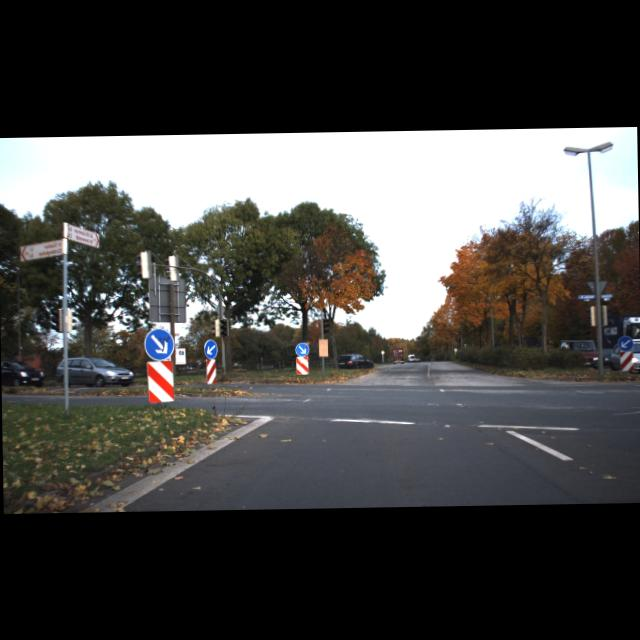mandatory: (144, 328, 174, 360), (204, 339, 217, 359), (618, 334, 634, 350), (296, 343, 309, 356)
